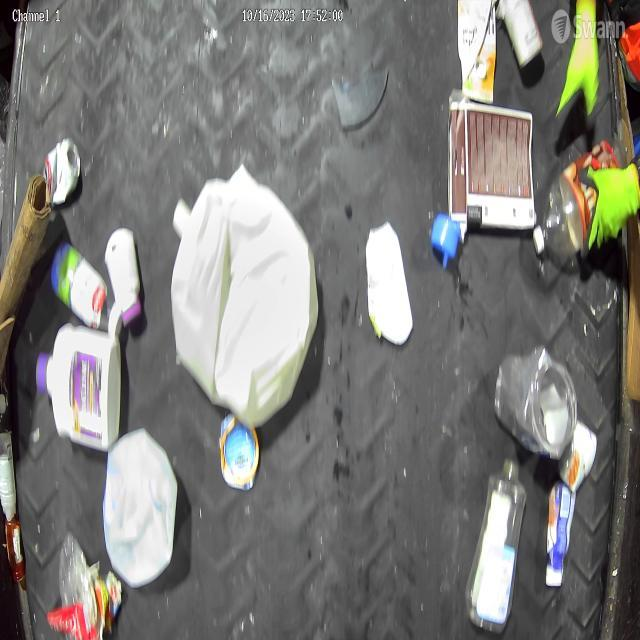can: (219, 414, 260, 492), (43, 138, 81, 206)
milk_jug: (170, 164, 320, 428)
